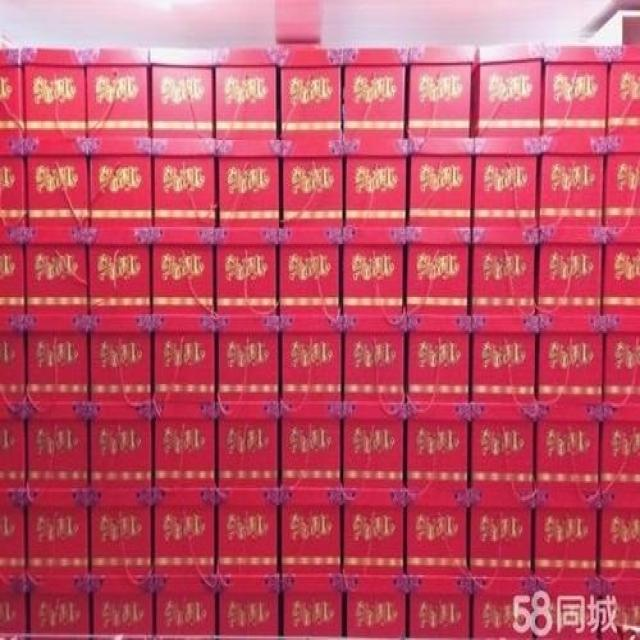box: (471, 41, 545, 135), (541, 44, 611, 135), (472, 137, 540, 229), (470, 312, 539, 401), (83, 48, 151, 138), (214, 44, 279, 138), (540, 135, 605, 229), (24, 135, 90, 227), (468, 403, 536, 492), (408, 137, 475, 227), (535, 403, 602, 493), (535, 229, 604, 316), (87, 137, 152, 229), (407, 46, 474, 135), (279, 44, 343, 137), (152, 137, 218, 227), (470, 229, 538, 316), (344, 135, 408, 227), (342, 46, 408, 135), (276, 225, 342, 314), (88, 401, 154, 490), (150, 48, 215, 138), (536, 314, 603, 401), (279, 314, 343, 404), (340, 488, 406, 575), (22, 48, 86, 137), (216, 138, 280, 227), (152, 227, 216, 316), (88, 314, 152, 403), (216, 314, 280, 403), (343, 314, 407, 403), (407, 312, 471, 401), (468, 492, 535, 577), (342, 403, 407, 490), (406, 403, 471, 490), (216, 486, 280, 573), (280, 137, 343, 225), (534, 493, 600, 577), (26, 314, 88, 403), (407, 227, 470, 314), (343, 225, 406, 312), (88, 229, 152, 314), (216, 229, 278, 316), (26, 227, 88, 314), (154, 401, 216, 488), (27, 490, 90, 575), (279, 488, 342, 573), (216, 403, 280, 486), (90, 490, 154, 573), (27, 403, 88, 490), (154, 488, 216, 573), (154, 316, 215, 401), (280, 404, 343, 486), (406, 492, 468, 575), (88, 573, 154, 640), (471, 575, 535, 640), (343, 573, 407, 638), (216, 575, 280, 640), (152, 575, 216, 640), (406, 575, 471, 638), (279, 573, 342, 638), (535, 577, 599, 640), (28, 575, 90, 640), (596, 495, 640, 577), (602, 403, 640, 493), (605, 131, 640, 227), (602, 227, 640, 314), (603, 314, 640, 403), (605, 43, 640, 133), (599, 577, 640, 640), (0, 138, 27, 227), (0, 227, 27, 314), (0, 403, 27, 488), (0, 316, 26, 403), (0, 488, 26, 573), (0, 48, 24, 140), (0, 575, 28, 638)
